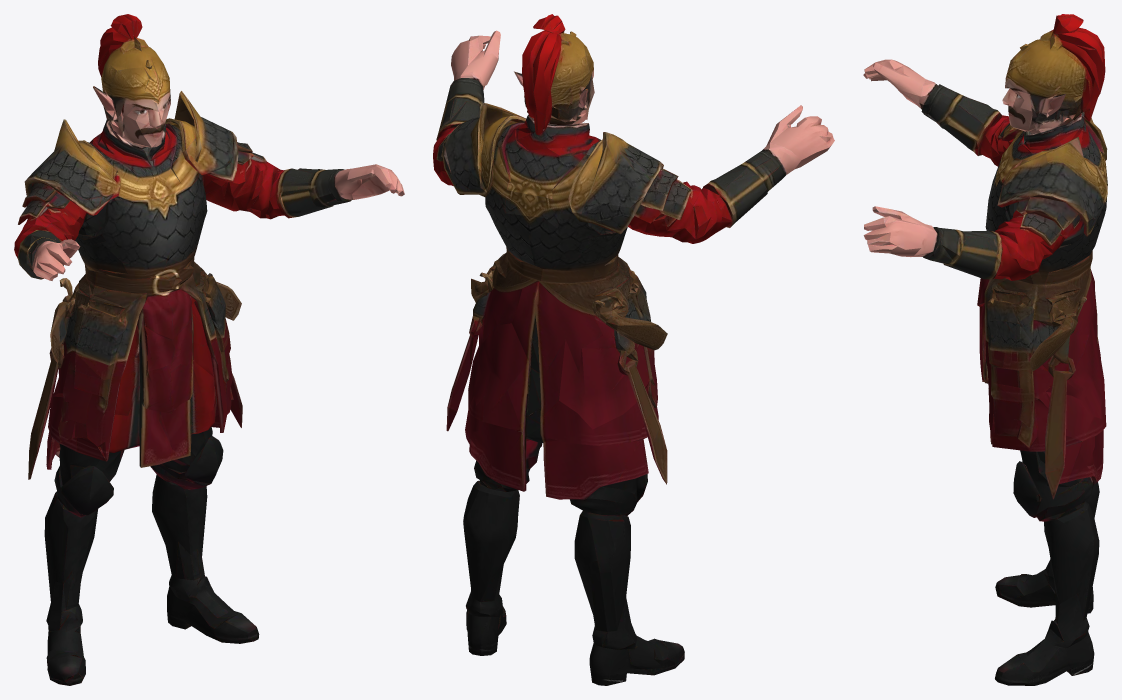
Rendered from char_CV_khien.glb.
3 views of the same model, side by side, from view 1: azimuth 30°, elevation 25°; view 2: azimuth 150°, elevation 25°; view 3: azimuth 270°, elevation 25° (orthographic). The views are drawn at different scales.
Bounding box in the file's own units: 1.16 × 1.9 × 0.6754.
Materials: 1 (1 with a texture image).
